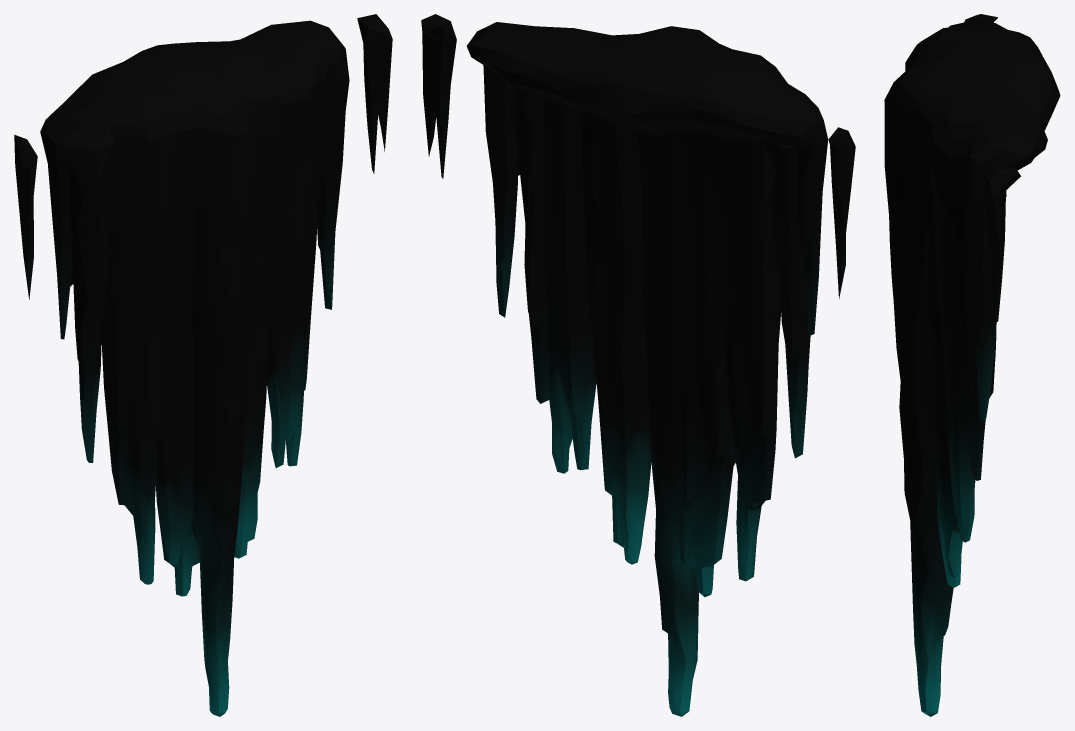
The model's file is Stalactite_5.fbx.
3 renders of one model, left to right at view 1: azimuth 30°, elevation 25°; view 2: azimuth 150°, elevation 25°; view 3: azimuth 270°, elevation 25°, orthographic. The views are drawn at different scales.
Parts seen in each view (by area): view 1: Stalactite_5_LOD0; view 2: Stalactite_5_LOD0; view 3: Stalactite_5_LOD0.
Part boxes in pixels (x1,y1,x2,y2): Stalactite_5_LOD0: (14, 14, 392, 716); Stalactite_5_LOD0: (421, 14, 855, 716); Stalactite_5_LOD0: (884, 14, 1060, 716).
Size of what is drawn, in the model's own units: 94.27 by 150 by 36.45.
